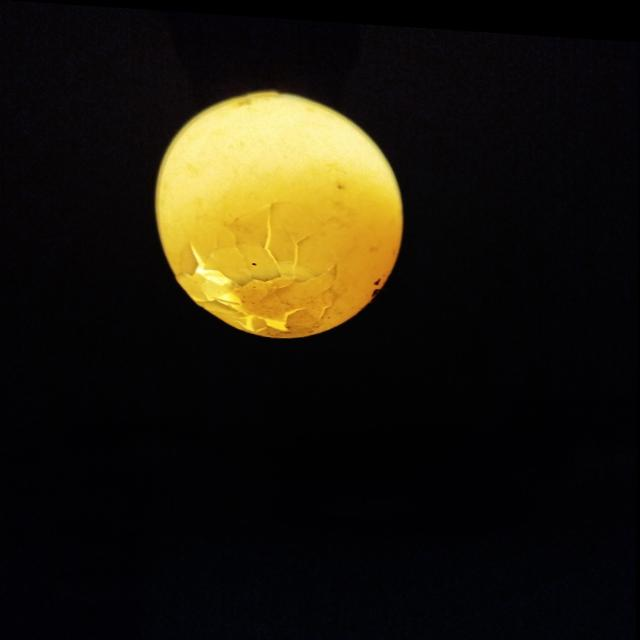Rachadura: (176, 229, 339, 334)
